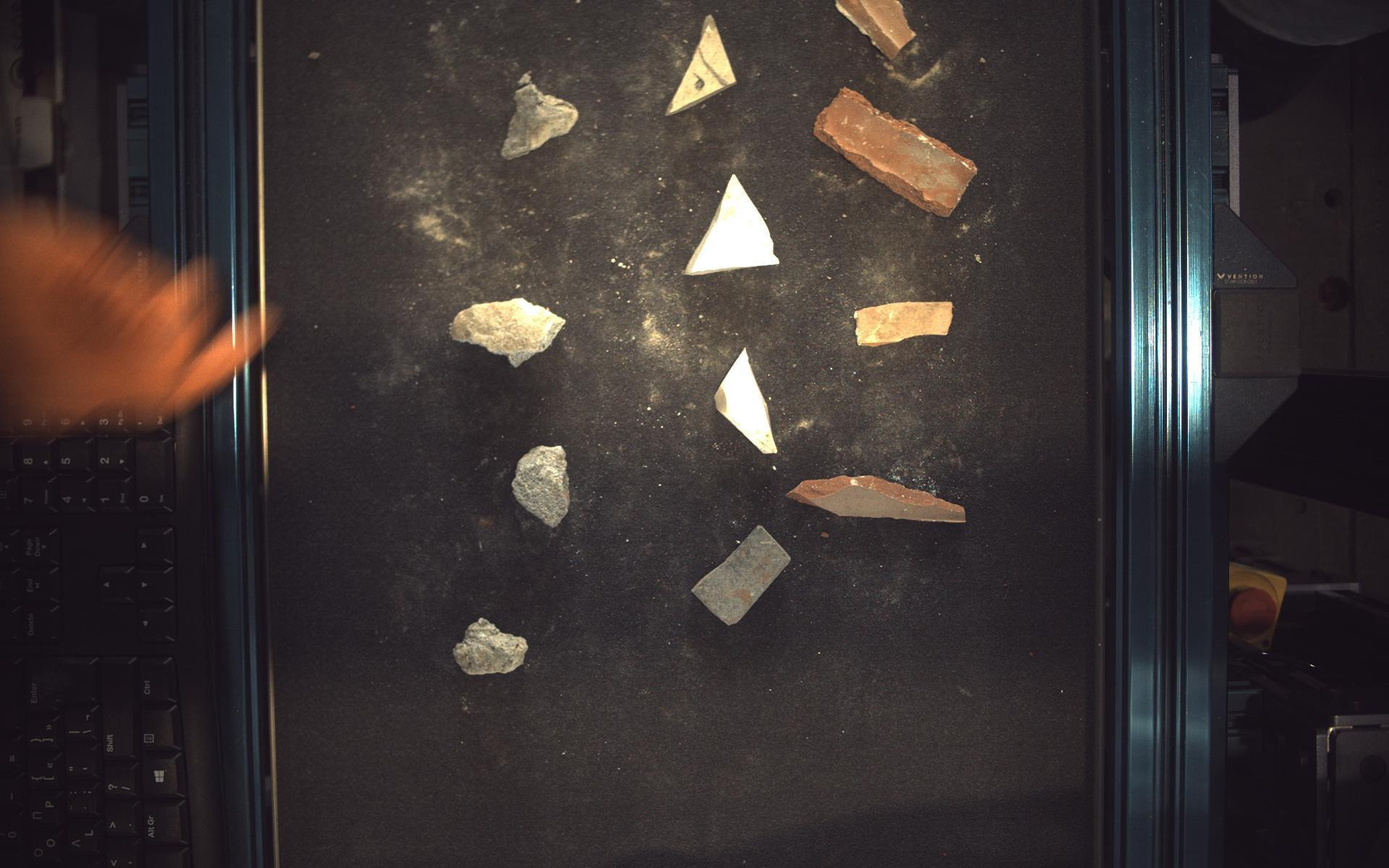brick: (815, 86, 979, 216), (789, 476, 968, 523), (837, 1, 917, 59), (856, 301, 954, 346)
concrete: (449, 297, 566, 366), (502, 71, 579, 158), (512, 446, 570, 528), (453, 618, 528, 676)
tile: (693, 527, 791, 626), (687, 174, 781, 274), (667, 13, 737, 114), (716, 348, 778, 454)
